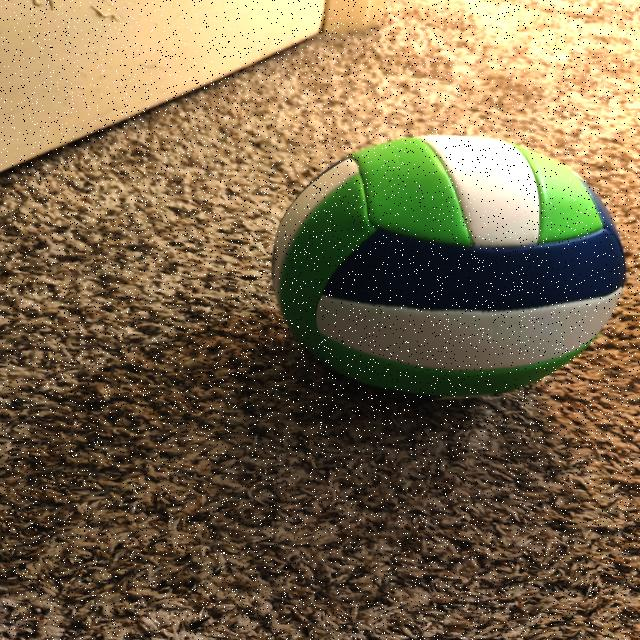ball: (268, 134, 612, 392)
